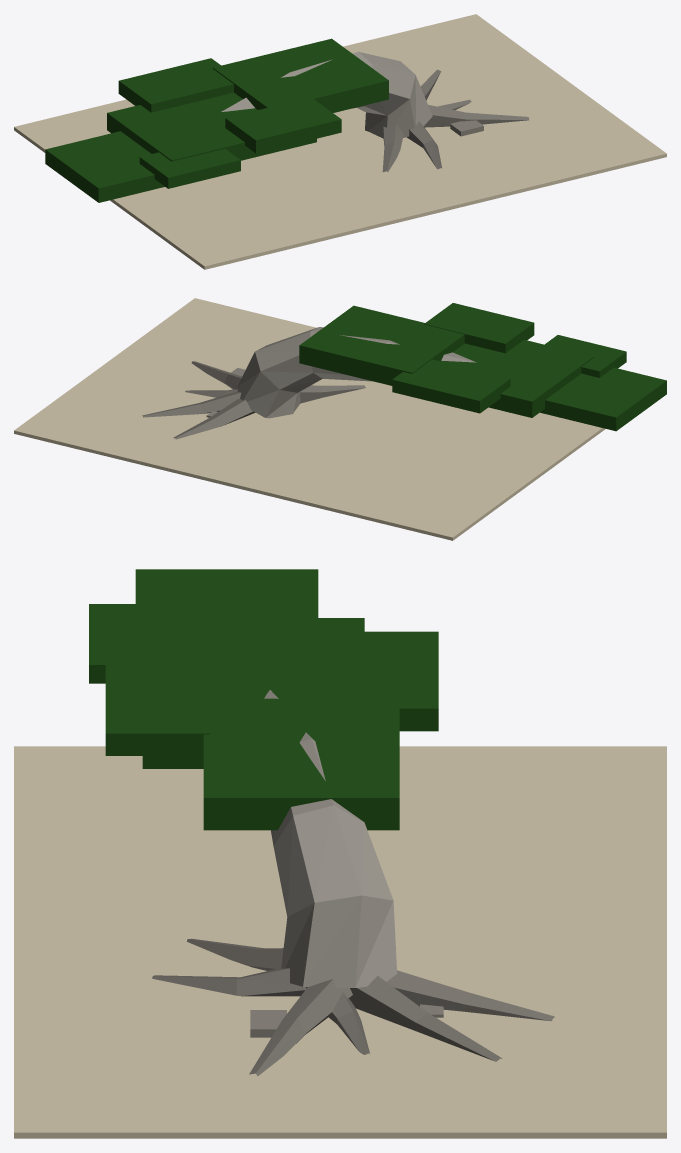
File: eb_fofoti_north.glb
The picture shows the model from 3 angles, top to bottom: view 1: azimuth 30°, elevation 25°; view 2: azimuth 150°, elevation 25°; view 3: azimuth 270°, elevation 25°; orthographic projection. The views are drawn at different scales.
Parts seen in each view (by area): view 1: eb_fofoti_north_lod0; view 2: eb_fofoti_north_lod0; view 3: eb_fofoti_north_lod0.
Boxes of the visible parts, left/top/right/bottom form: eb_fofoti_north_lod0: left=14, top=14, right=666, bottom=269; eb_fofoti_north_lod0: left=14, top=298, right=666, bottom=540; eb_fofoti_north_lod0: left=14, top=569, right=666, bottom=1138.
Size of what is drawn, in the model's own units: 16.13 by 2.81 by 10.
